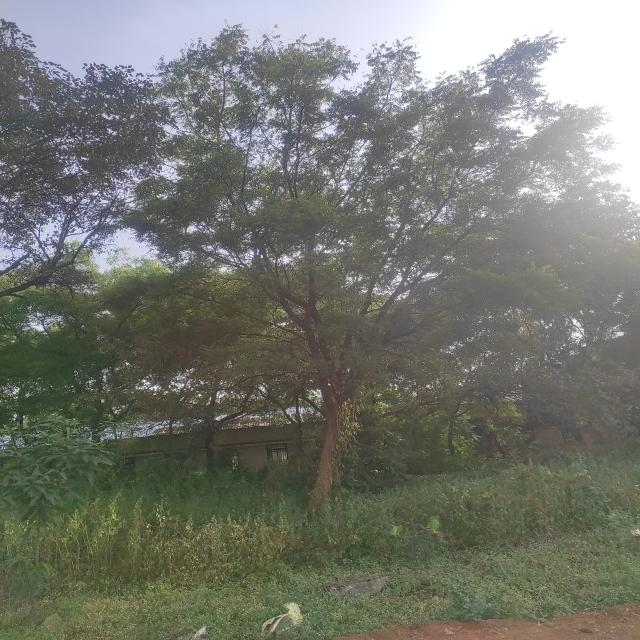Neem Tree: (140, 62, 584, 516)
